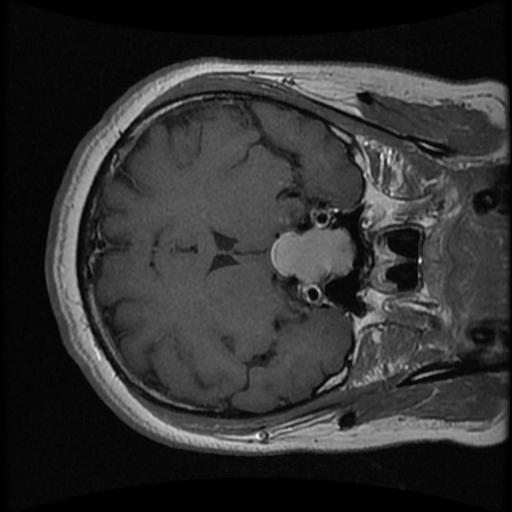pituitary tumour: (272, 227, 354, 284)
